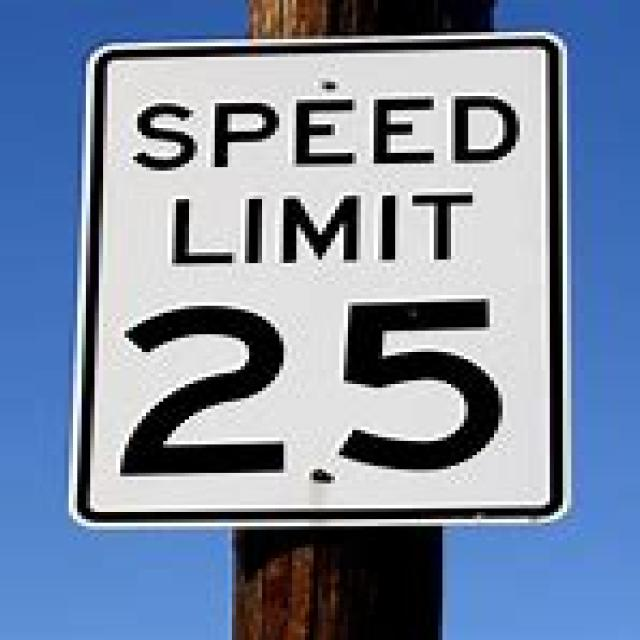speedLimit25: (75, 41, 574, 510)
